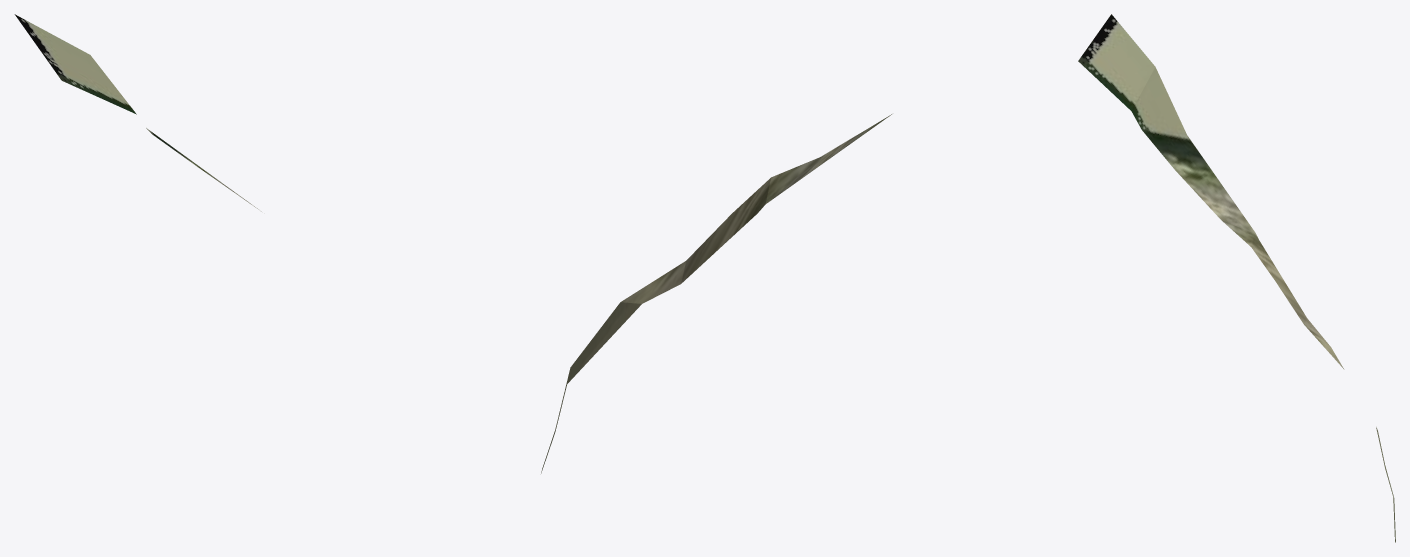
3 views of the same model, side by side, from view 1: azimuth 30°, elevation 25°; view 2: azimuth 150°, elevation 25°; view 3: azimuth 330°, elevation 25° (orthographic). The views are drawn at different scales.
Size of the model in its own units: 8.03 by 10.34 by 1.47.
Materials: 1 (1 with a texture image).
